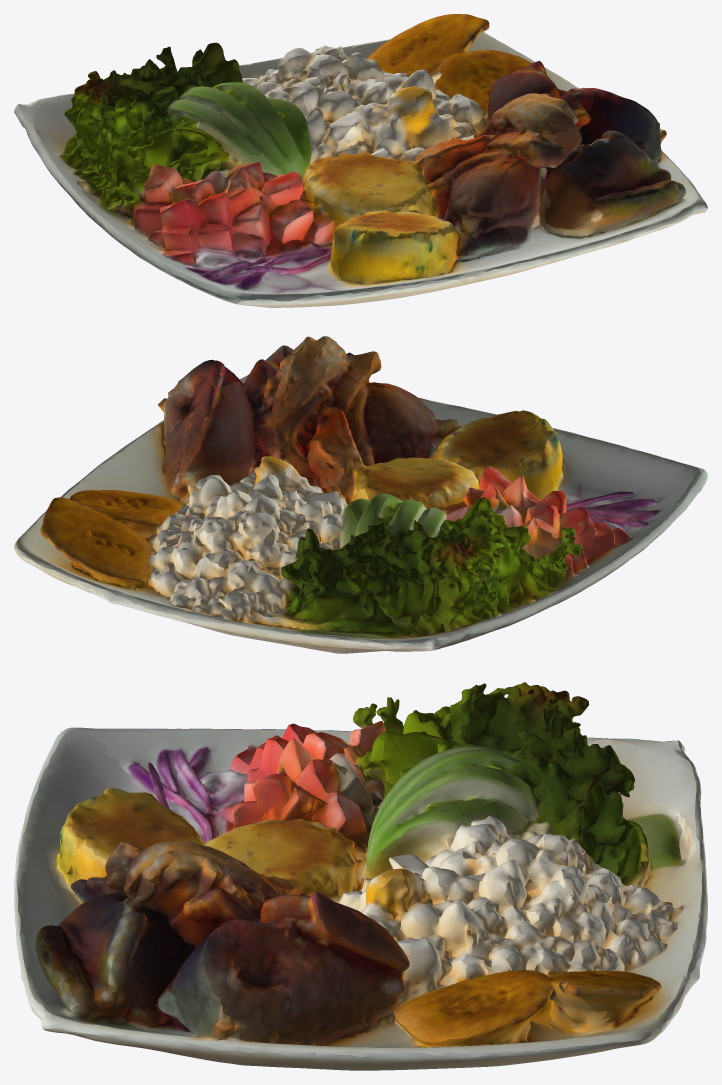
Rendered from fritada_alt_seed7.glb.
The picture shows the model from 3 angles, top to bottom: view 1: azimuth 30°, elevation 25°; view 2: azimuth 150°, elevation 25°; view 3: azimuth 270°, elevation 25°; orthographic projection. The views are drawn at different scales.
Parts seen in each view (by area): view 1: geometry_0; view 2: geometry_0; view 3: geometry_0.
Part boxes in pixels (x1,y1,x2,y2): geometry_0: (14, 14, 707, 307); geometry_0: (14, 336, 707, 653); geometry_0: (14, 682, 707, 1070).
Bounding box in the file's own units: 0.2668 × 0.07 × 0.2538.
1 material, 1 textured.
